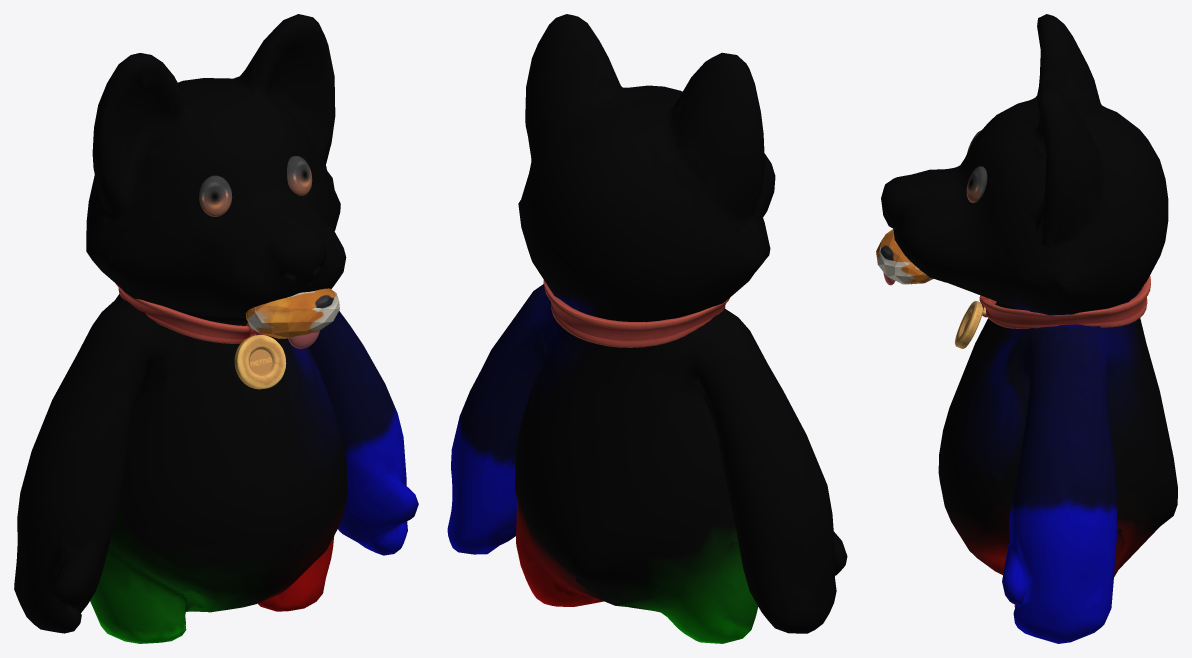
The model's file is nemo_shell_v5.glb.
3 views of the same model, side by side, from view 1: azimuth 30°, elevation 25°; view 2: azimuth 150°, elevation 25°; view 3: azimuth 270°, elevation 25° (orthographic). The views are drawn at different scales.
Parts seen in each view (by area): view 1: BoundedShellGroom, Body, Collar, Nemo_Normal; view 2: BoundedShellGroom, Body, Collar; view 3: BoundedShellGroom, Body, Collar, Nemo_Normal.
Part boxes in pixels (x1=…): BoundedShellGroom: x1=14, y1=14, x2=418, y2=643; Body: x1=16, y1=18, x2=411, y2=638; Collar: x1=115, y1=283, x2=286, y2=389; Nemo_Normal: x1=199, y1=156, x2=312, y2=216; BoundedShellGroom: x1=447, y1=14, x2=847, y2=643; Body: x1=450, y1=23, x2=836, y2=642; Collar: x1=543, y1=280, x2=729, y2=347; BoundedShellGroom: x1=876, y1=14, x2=1177, y2=643; Body: x1=884, y1=16, x2=1176, y2=636; Collar: x1=954, y1=275, x2=1150, y2=348; Nemo_Normal: x1=966, y1=130, x2=987, y2=202.
Bounding box in the file's own units: 1.79 × 2.67 × 1.36.
Materials: 6 (4 with a texture image).
